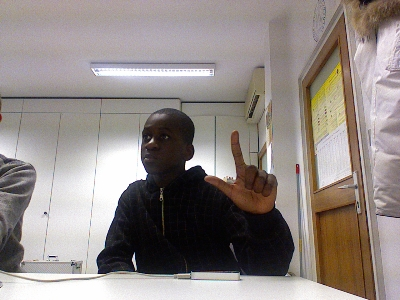枪: (202, 128, 279, 215)
